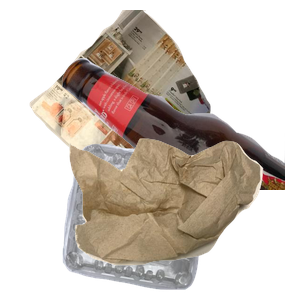glass: (60, 56, 300, 236)
paper: (27, 10, 230, 190)
plastic: (60, 141, 263, 300)
trash: (67, 136, 300, 300)
